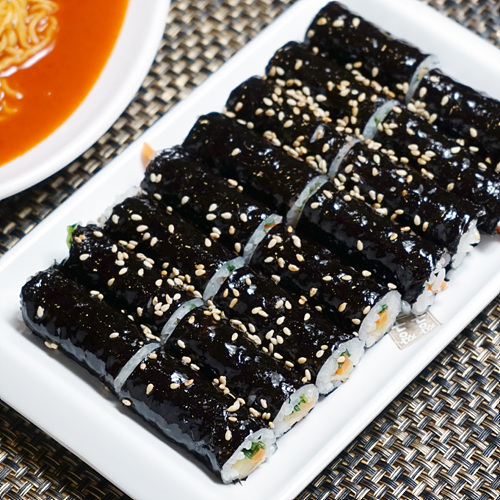gimbab: (20, 3, 500, 489)
